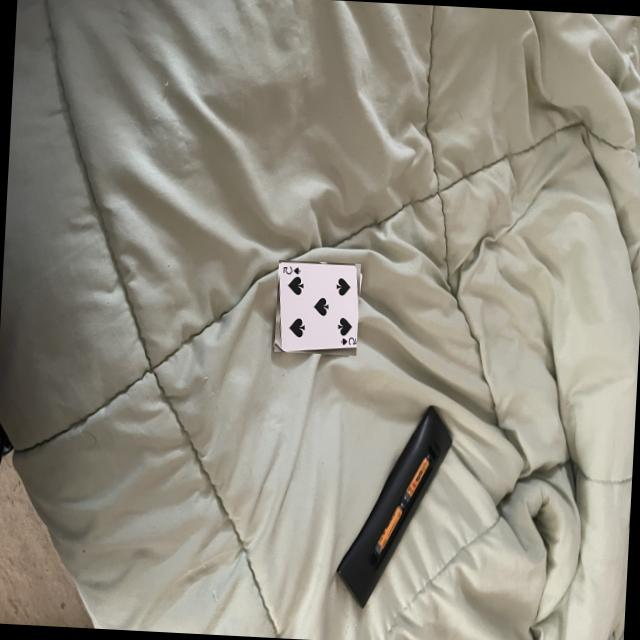5 of spades: (278, 260, 355, 352)
